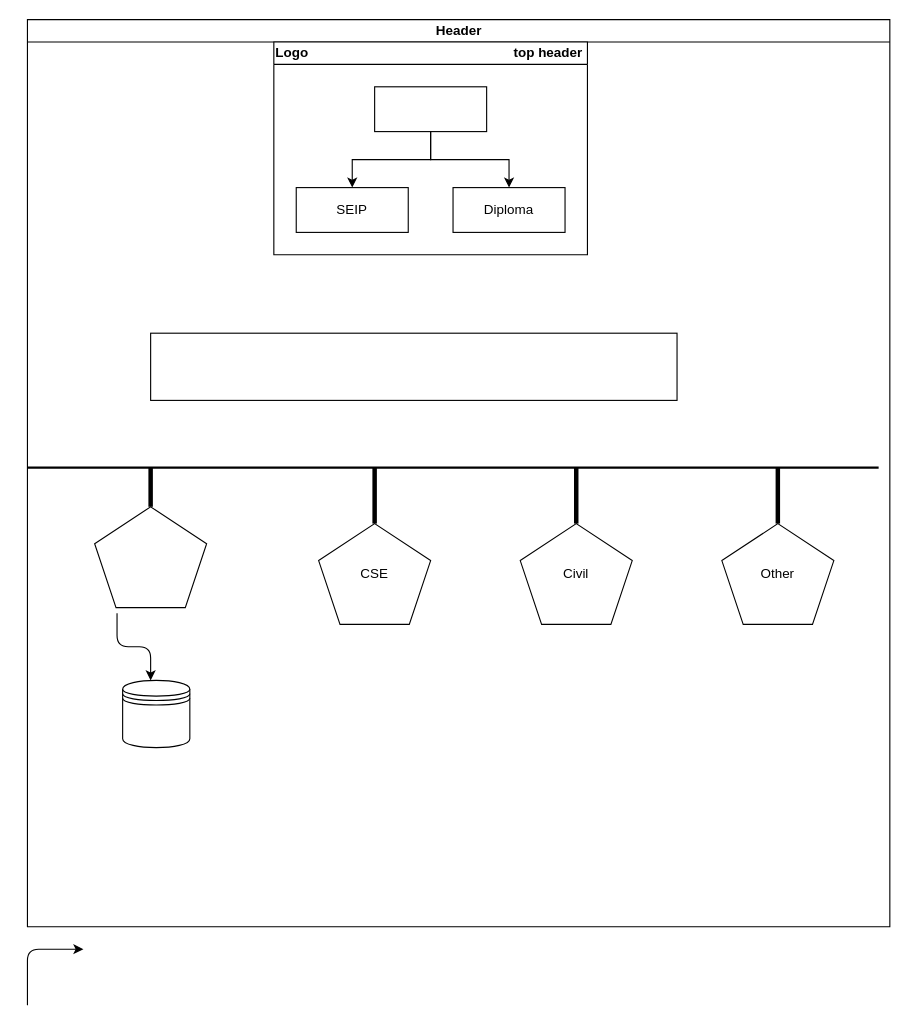
This 909x1034 diagram has some shape labels left out. Each missing label, with the centre of its shape:
"Electrical" goes at point (150, 557).
"Menu" goes at point (430, 109).
"Slider for every sector" goes at point (413, 366).
